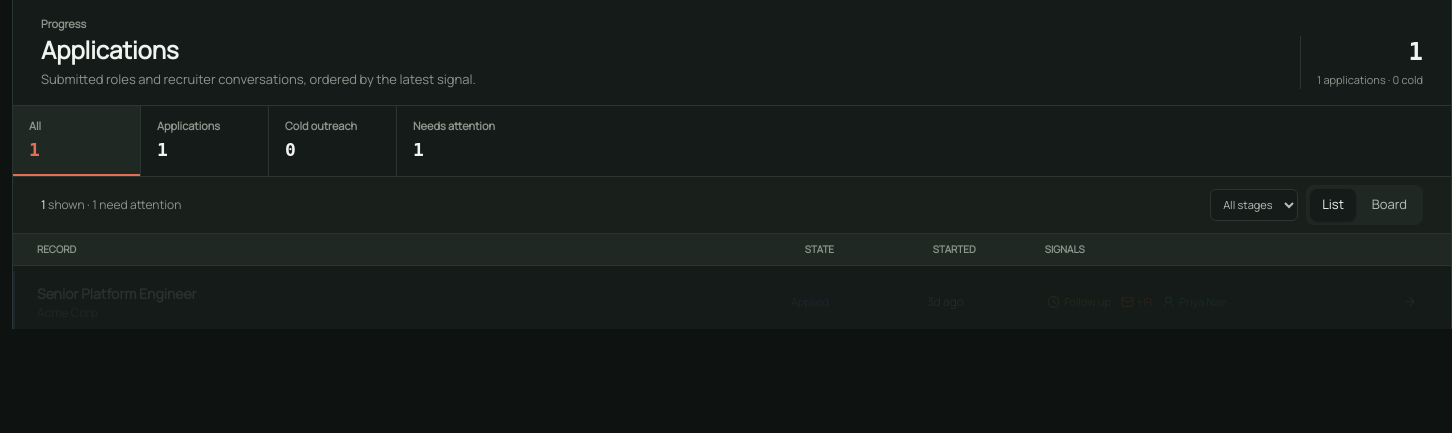
Test: Board › keeps the referrer visible after switching to the Kanban view
Click the radio button labelled "Board": (1389, 205) [1360,189,1419,220]
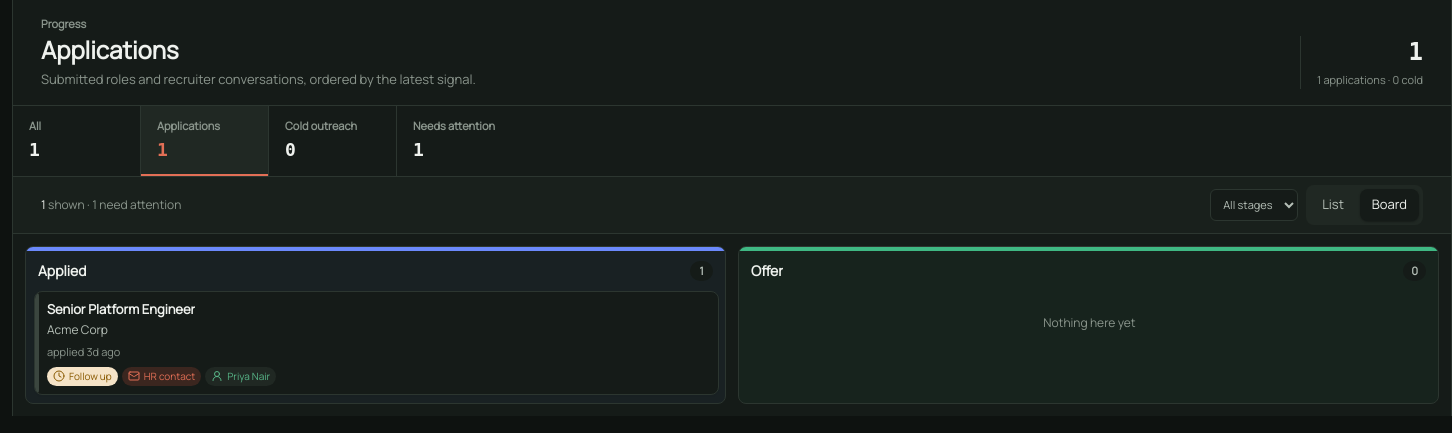
expect the text "Priya Nair" is shown: met, box [205,366,276,386]
